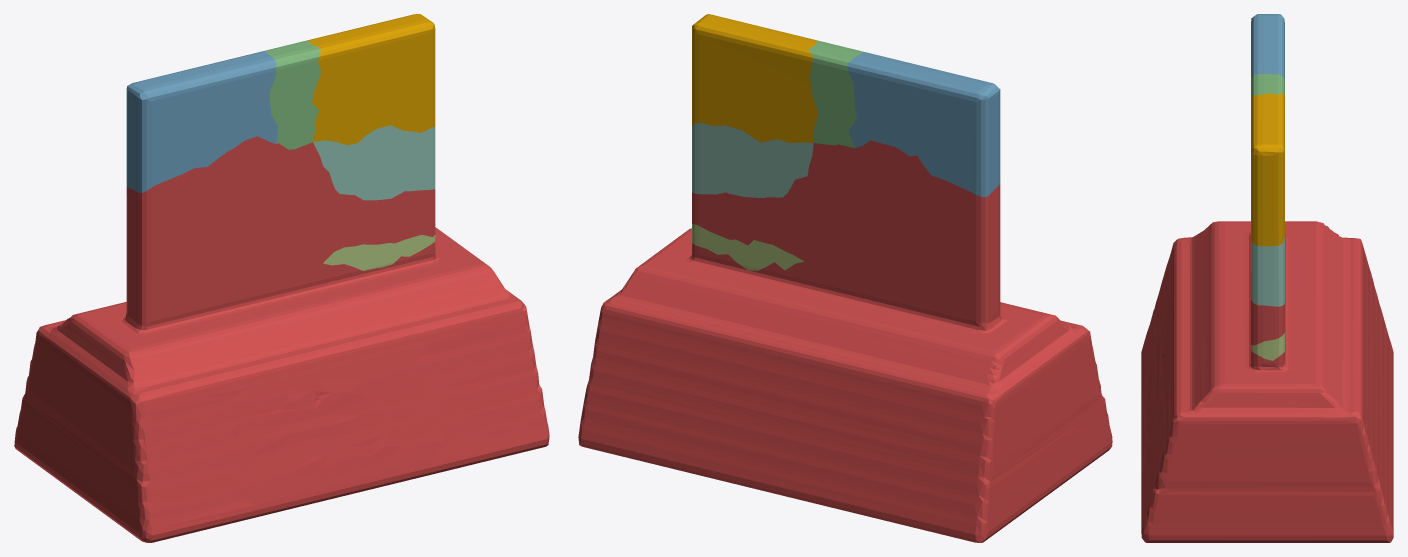
The model's file is fractured_3_6pcs.glb.
3 renders of one model, left to right at view 1: azimuth 30°, elevation 25°; view 2: azimuth 150°, elevation 25°; view 3: azimuth 270°, elevation 25°, orthographic. The views are drawn at different scales.
Parts seen in each view (by area): view 1: piece_1.obj, piece_2.obj, piece_0.obj, piece_4.obj, piece_3.obj, piece_5.obj; view 2: piece_1.obj, piece_2.obj, piece_0.obj, piece_4.obj, piece_3.obj, piece_5.obj; view 3: piece_1.obj, piece_0.obj, piece_4.obj, piece_2.obj, piece_3.obj, piece_5.obj.
Boxes of the visible parts, <box> form: piece_1.obj: <box>14,136,549,542</box>; piece_2.obj: <box>126,51,277,192</box>; piece_0.obj: <box>303,14,435,145</box>; piece_4.obj: <box>313,125,435,200</box>; piece_3.obj: <box>264,41,320,149</box>; piece_5.obj: <box>323,235,435,270</box>; piece_1.obj: <box>578,140,1112,542</box>; piece_2.obj: <box>847,52,1000,197</box>; piece_0.obj: <box>692,14,821,142</box>; piece_4.obj: <box>692,122,813,197</box>; piece_3.obj: <box>808,41,865,148</box>; piece_5.obj: <box>692,224,804,270</box>; piece_1.obj: <box>1141,221,1393,542</box>; piece_0.obj: <box>1251,93,1284,246</box>; piece_4.obj: <box>1251,236,1284,306</box>; piece_2.obj: <box>1251,14,1284,80</box>; piece_3.obj: <box>1251,74,1284,98</box>; piece_5.obj: <box>1251,331,1284,360</box>.
Size of the model in its own units: 1 by 0.9277 by 0.5692.
